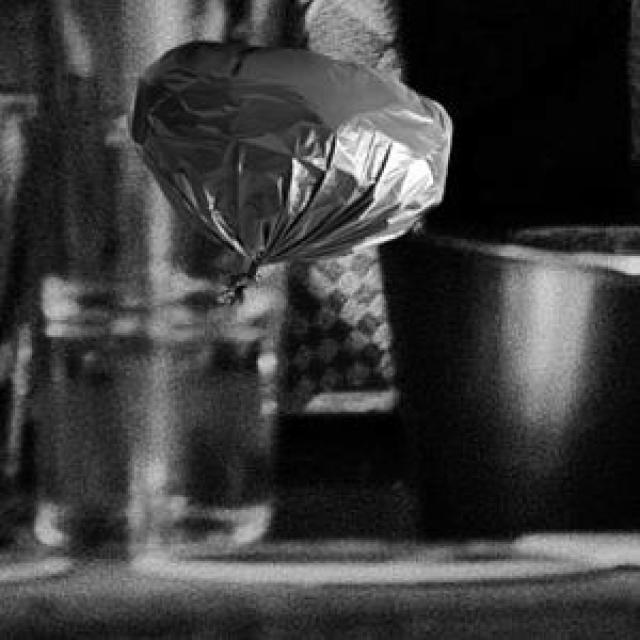miscellaneous trash: (124, 36, 448, 303)
